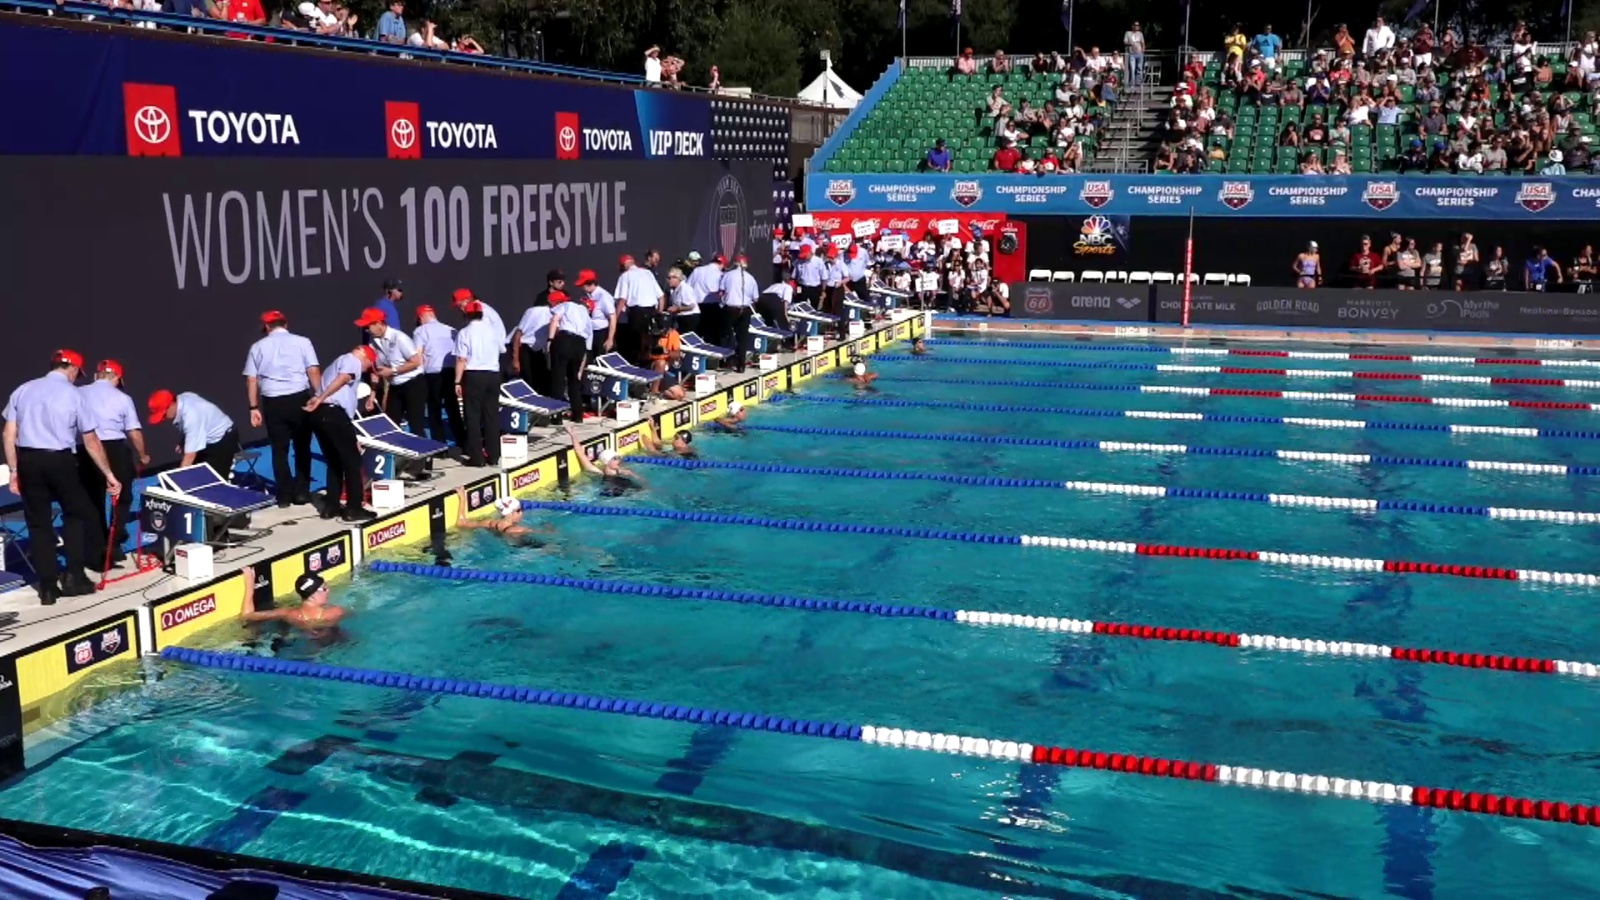swimmerw: (231, 564, 355, 664), (565, 416, 651, 513), (451, 484, 553, 559), (642, 416, 713, 479), (705, 403, 753, 431), (845, 363, 880, 399), (905, 333, 935, 360)
